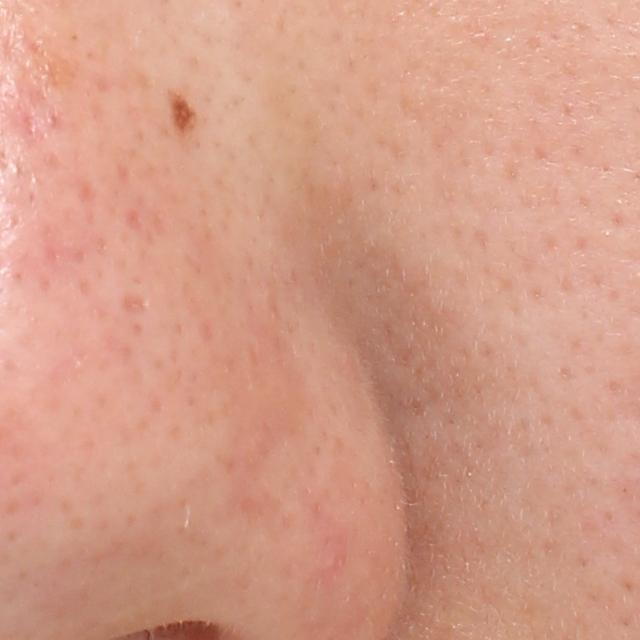atrophic_scar: (114, 291, 150, 315)
nevus: (169, 87, 200, 142)
